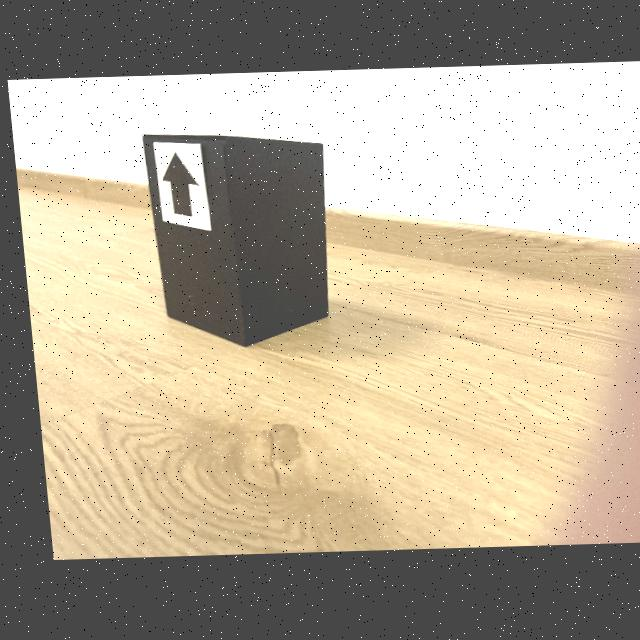UP: (160, 153, 193, 219)
